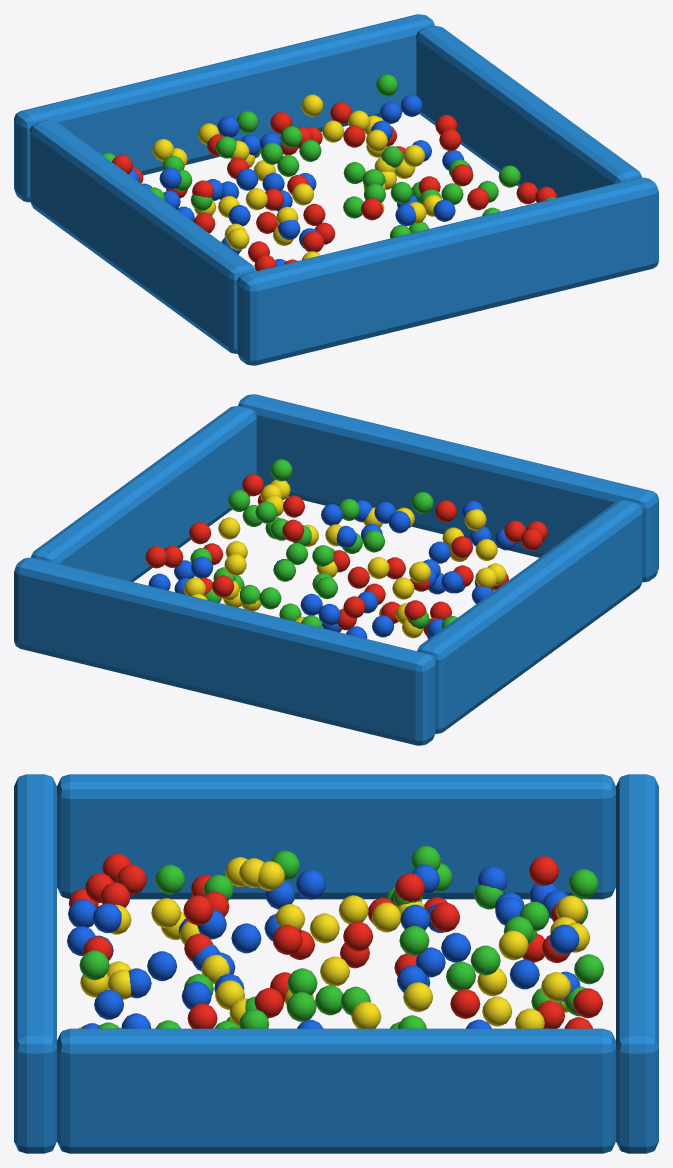
Rendered from ball_pit.glb.
The picture shows the model from 3 angles, top to bottom: view 1: azimuth 30°, elevation 25°; view 2: azimuth 150°, elevation 25°; view 3: azimuth 270°, elevation 25°; orthographic projection. The views are drawn at different scales.
Parts seen in each view (by area): view 1: ball_pit; view 2: ball_pit; view 3: ball_pit.
Part boxes in pixels (x1,y1,x2,y2): ball_pit: (14,14,658,365); ball_pit: (14,394,658,745); ball_pit: (14,774,658,1153).
Size of the model in its own units: 3 by 0.6 by 3.
1 material, 1 textured.
